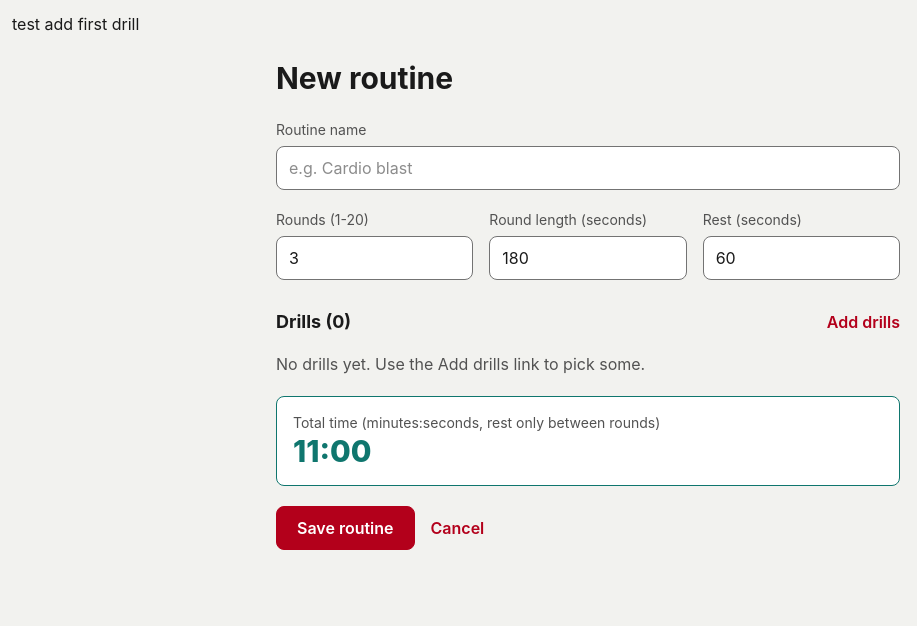
Test case: RoutineForm (new routine) › shows validation messages and does not save an empty form
Click the button "Save routine". click: (345,528)
box: [276, 506, 414, 550]
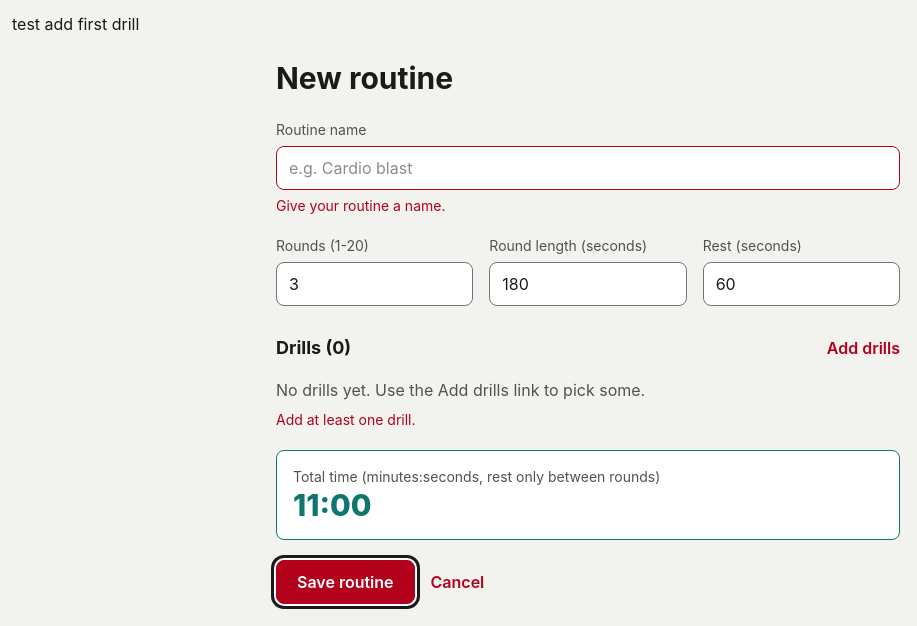
Expected: the text "Give your routine a name." is shown, [276, 197, 446, 214]
Expected: the text "Add at least one drill." is shown, [276, 411, 416, 428]
